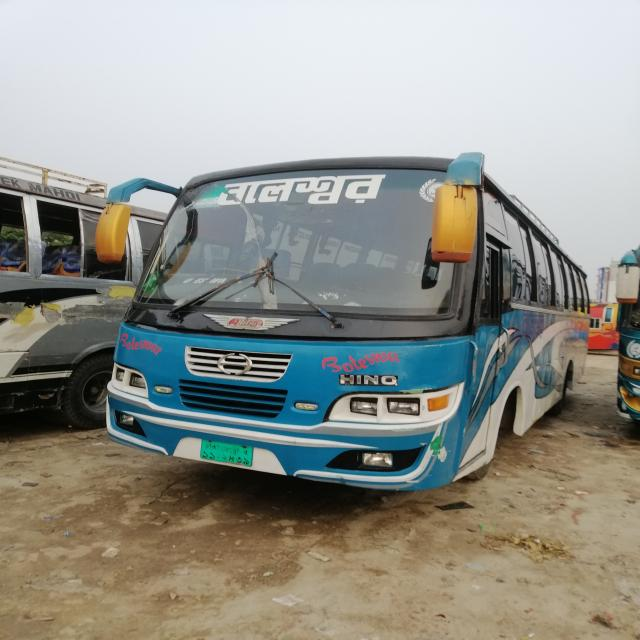Bus: (94, 141, 597, 496)
